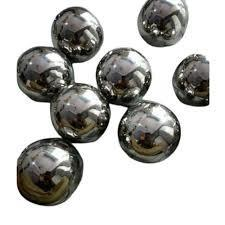steelball: (113, 100, 181, 166), (97, 45, 151, 103)
